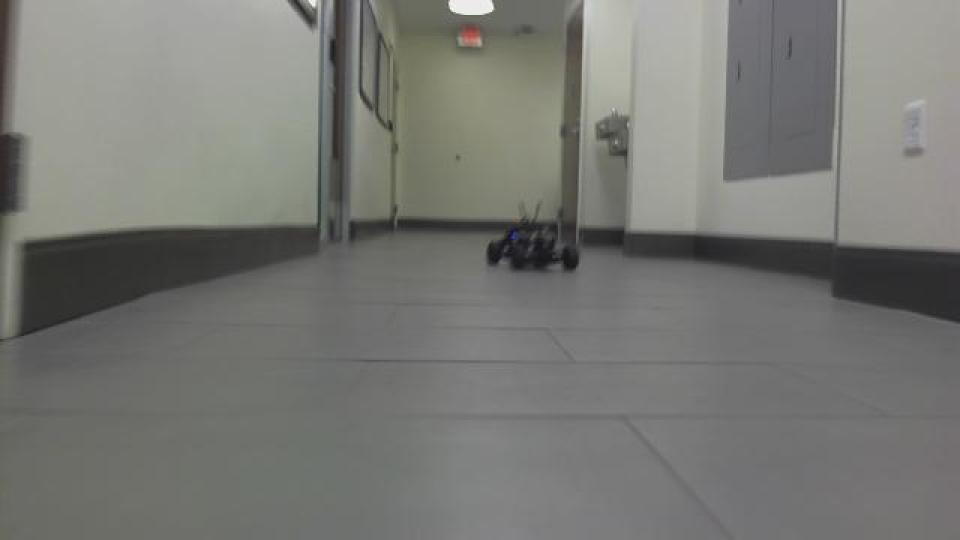car: (482, 198, 582, 274)
